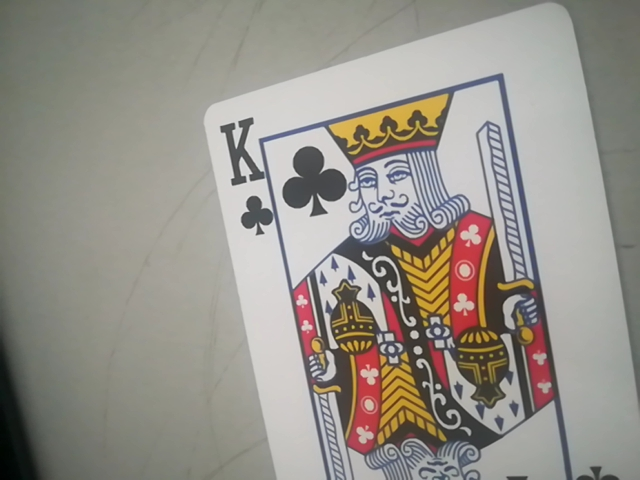mh k: (202, 7, 635, 474)
